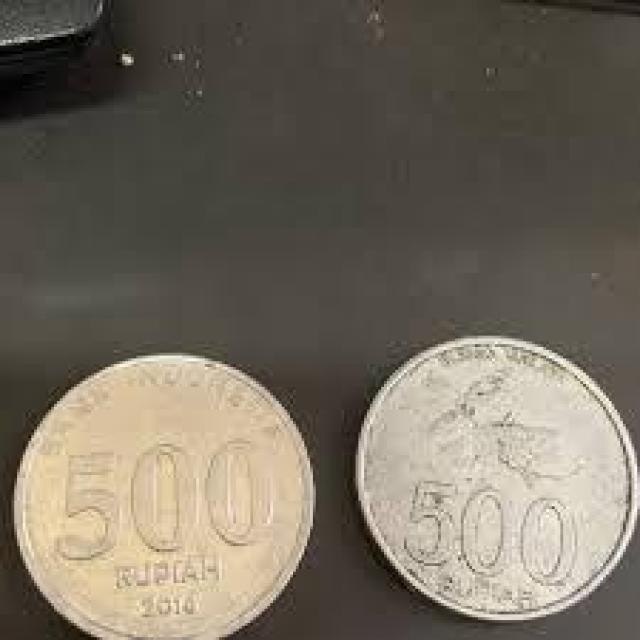500-silver: (347, 322, 640, 628), (11, 350, 308, 640)
